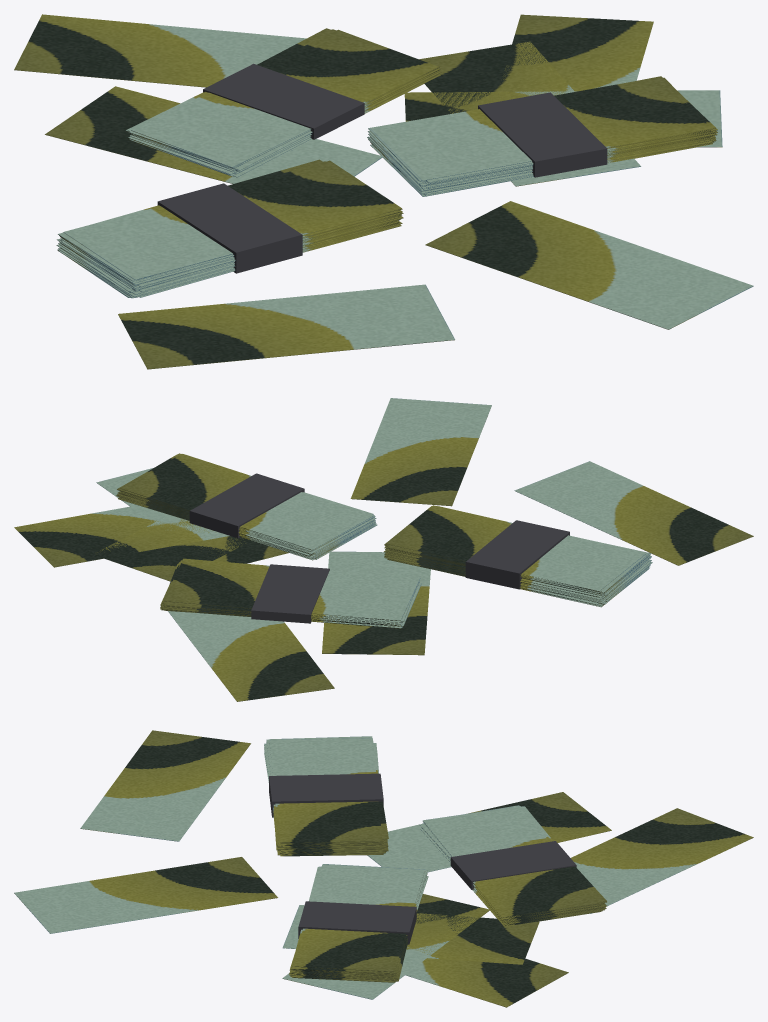
Rendered from money_stack.glb.
The picture shows the model from 3 angles, top to bottom: view 1: azimuth 30°, elevation 25°; view 2: azimuth 150°, elevation 25°; view 3: azimuth 270°, elevation 25°; orthographic projection. The views are drawn at different scales.
Parts seen in each view (by area): view 1: loose_3, loose_1, note_0.09_0.02_41, note_0.00_0.12_29, loose_4, note_-0.10_0.00_54, loose_6, loose_2, loose_5, Cube, Cube.001, Cube.002 (+4 smaller); view 2: loose_3, loose_1, loose_4, note_0.00_0.12_29, note_0.09_0.02_41, note_-0.10_0.00_54, loose_6, loose_2, Cube, Cube.001, loose_5, Cube.002 (+3 smaller); view 3: loose_1, loose_3, loose_4, note_0.00_0.12_29, note_0.09_0.02_41, note_-0.10_0.00_54, loose_5, loose_2, loose_6, loose_0, Cube, Cube.001 (+2 smaller).
Part boxes in pixels (box(x1,y1,x2,y2)): loose_3: box(118, 284, 454, 369); loose_1: box(425, 201, 753, 329); note_0.09_0.02_41: box(370, 76, 712, 180); note_0.00_0.12_29: box(131, 29, 438, 167); loose_4: box(14, 14, 306, 87); note_-0.10_0.00_54: box(63, 161, 401, 279); loose_6: box(497, 14, 653, 98); loose_2: box(45, 86, 382, 183); loose_5: box(419, 41, 640, 186); Cube: box(157, 183, 302, 273); Cube.001: box(478, 92, 607, 177); Cube.002: box(203, 63, 364, 139); loose_3: box(514, 461, 753, 565); loose_1: box(350, 398, 491, 506); loose_4: box(168, 611, 334, 701); note_0.00_0.12_29: box(164, 558, 420, 620); note_0.09_0.02_41: box(120, 454, 374, 549); note_-0.10_0.00_54: box(385, 505, 646, 591); loose_6: box(14, 505, 229, 567); loose_2: box(322, 551, 430, 655); Cube: box(465, 520, 569, 589); Cube.001: box(189, 473, 304, 538); loose_5: box(97, 515, 245, 581); Cube.002: box(251, 564, 329, 623); loose_1: box(14, 857, 277, 933); loose_3: box(80, 730, 250, 841); loose_4: box(571, 808, 753, 913); note_0.00_0.12_29: box(423, 806, 599, 917); note_0.09_0.02_41: box(292, 864, 424, 971); note_-0.10_0.00_54: box(269, 738, 382, 842); loose_5: box(282, 905, 539, 964); loose_2: box(367, 792, 611, 872); loose_6: box(405, 958, 568, 1007); loose_0: box(282, 894, 489, 999); Cube: box(269, 773, 383, 817); Cube.001: box(298, 901, 416, 944).
Size of the model in its own units: 0.4201 by 0.0116 by 0.4741.
Materials: 2 (1 with a texture image).
